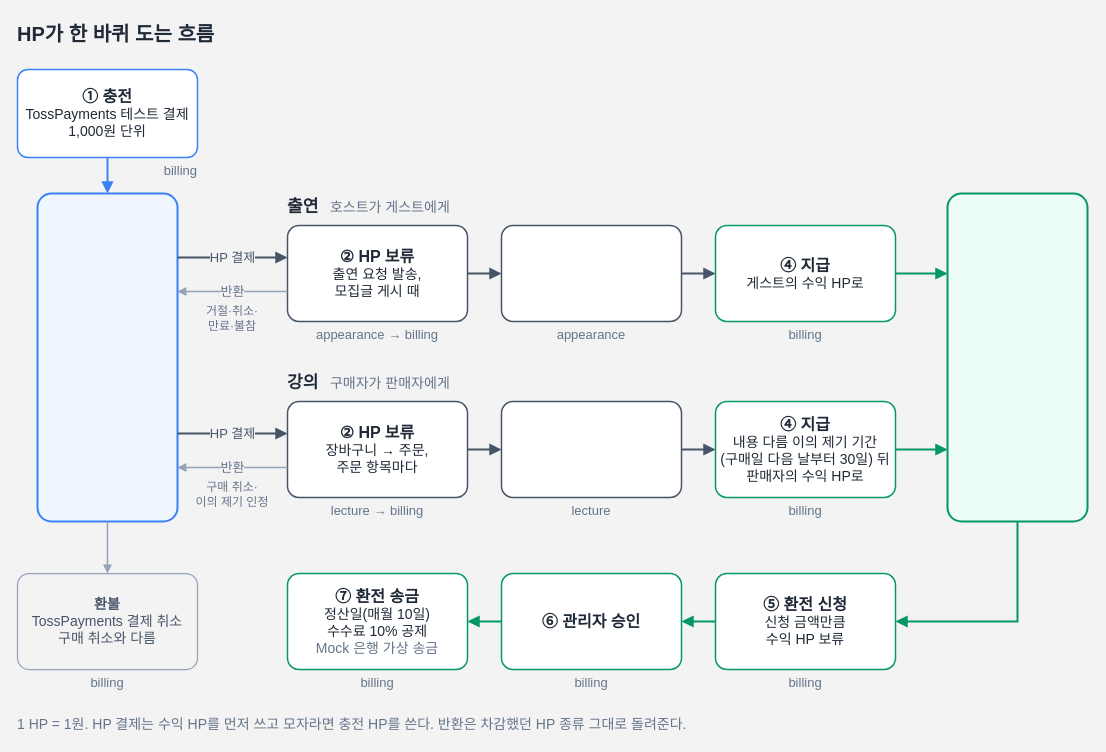
Image size: 1106x752. Some labels were removed from this diagram. Here are the shapes that lost their labels. From the top down, the centre of each, then its label:
the point at 591,273: ③ 출연 확인 방송 예정 일시부터 7일 안 호스트가 확인, 응답 없으면 자동 확인
the point at 107,357: 충전 HP 환불 가능 환전 불가
the point at 1017,357: 수익 HP 환전 가능 환불 불가
the point at 591,449: ③ 구매 확정 직접 확정·첫 재생· 구매일 다음 날부터 7일 경과 중 먼저 오는 시점
